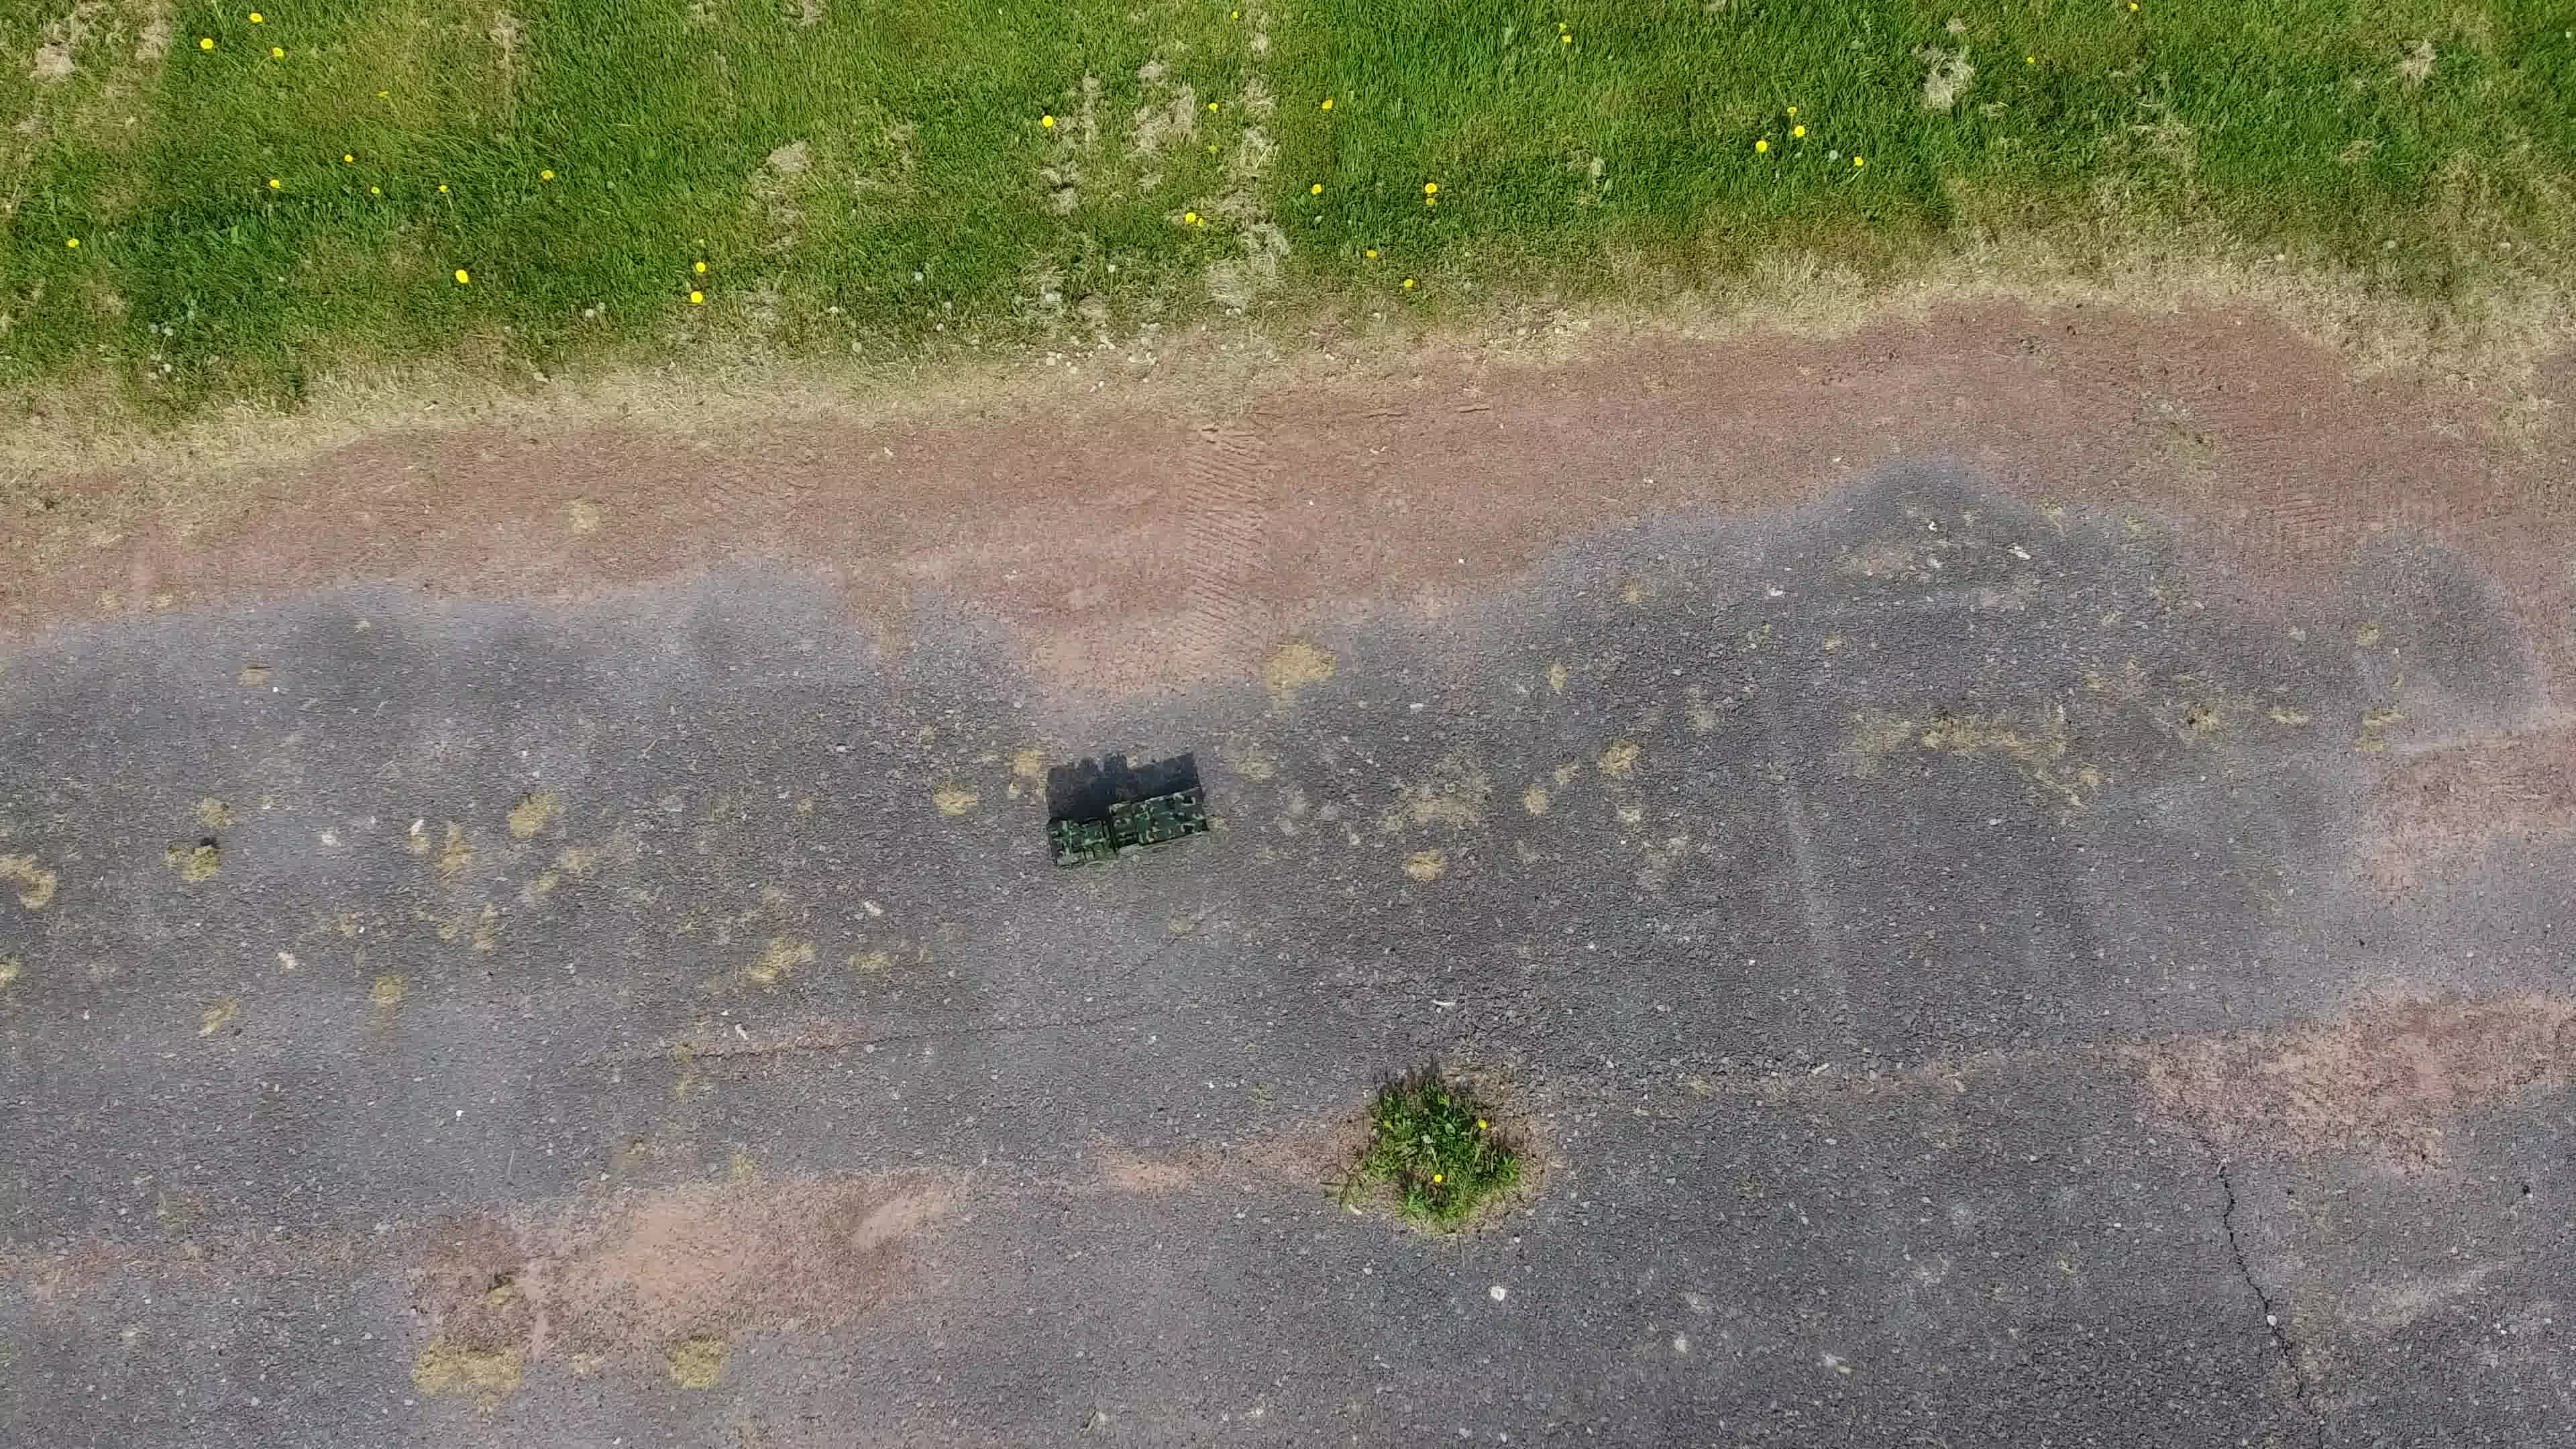transporter9_camo: (1046, 780, 1214, 874)
